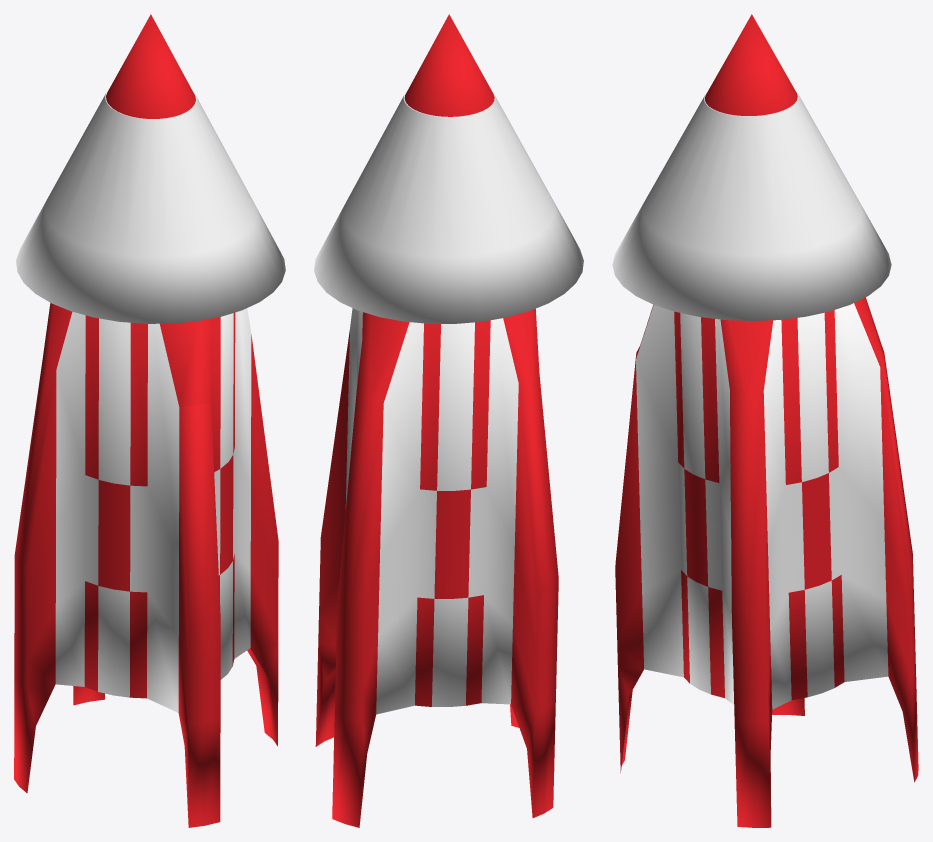
Rendered from MISSILERED.glb.
3 views of the same model, side by side, from view 1: azimuth 30°, elevation 25°; view 2: azimuth 150°, elevation 25°; view 3: azimuth 270°, elevation 25° (orthographic).
Visible parts, largest first — view 1: Cone.002; view 2: Cone.002; view 3: Cone.002.
Boxes of the visible parts, bbox=[...] form: Cone.002: bbox=[14, 14, 285, 827]; Cone.002: bbox=[314, 14, 583, 827]; Cone.002: bbox=[612, 14, 918, 827].
Size of the model in its own units: 3.15 by 9.55 by 3.49.
5 materials, 5 textured.
